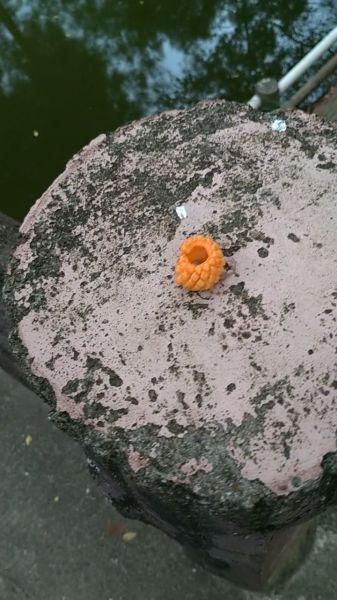eggs: (167, 231, 228, 295)
